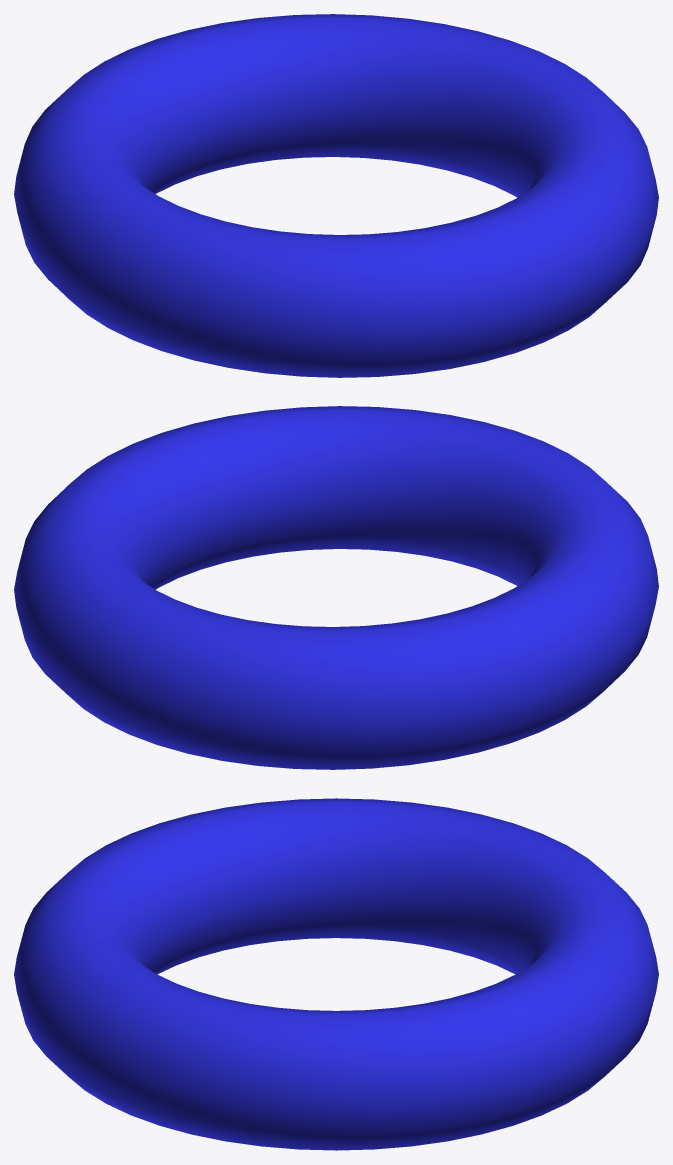
Rendered from hanoi_small.glb.
3 views of the same model, one above another, from view 1: azimuth 30°, elevation 25°; view 2: azimuth 150°, elevation 25°; view 3: azimuth 270°, elevation 25° (orthographic).
Parts seen in each view (by area): view 1: Torus.002; view 2: Torus.002; view 3: Torus.002.
Boxes of the visible parts, x1=… form: Torus.002: x1=14, y1=14, x2=658, y2=377; Torus.002: x1=14, y1=406, x2=658, y2=769; Torus.002: x1=14, y1=798, x2=658, y2=1150.
Size of the model in its own units: 0.8563 by 0.1962 by 0.8788.
